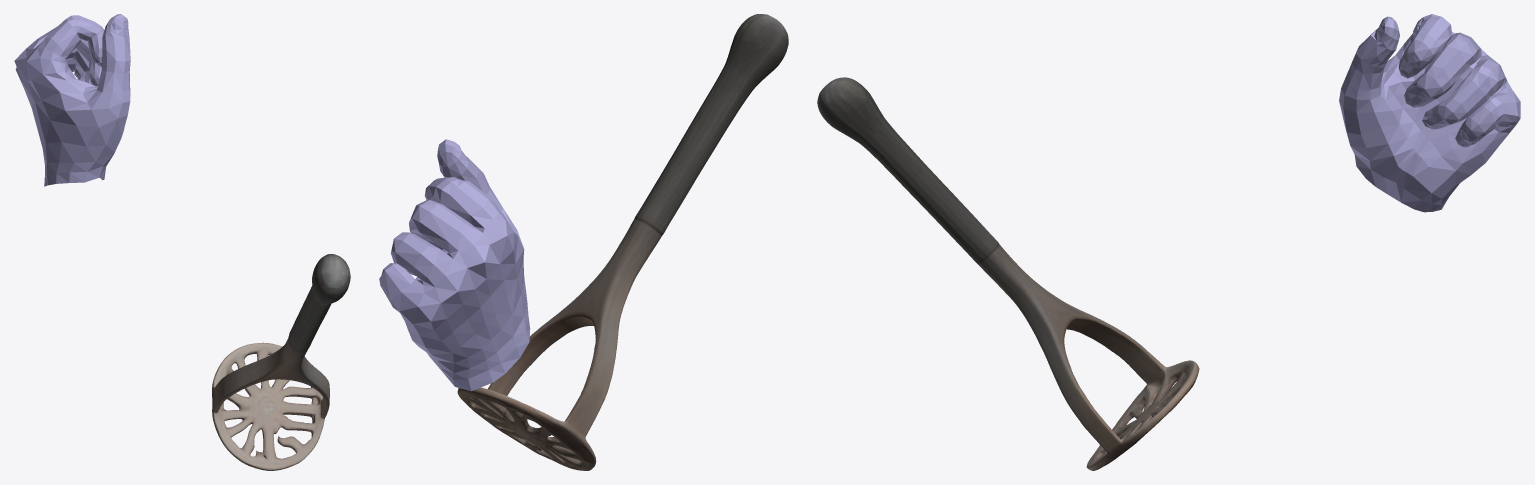
The model's file is frame_0041_source_000041_hand_object.glb.
The picture shows the model from 3 angles, left to right: view 1: azimuth 30°, elevation 25°; view 2: azimuth 150°, elevation 25°; view 3: azimuth 270°, elevation 25°; orthographic projection. The views are drawn at different scales.
Parts seen in each view (by area): view 1: world; view 2: world; view 3: world.
Boxes of the visible parts, x1,y1,x2,y2 form: world: [14, 14, 350, 470]; world: [379, 14, 788, 470]; world: [817, 14, 1520, 470].
Bounding box in the file's own units: 0.1183 × 0.255 × 0.38.
